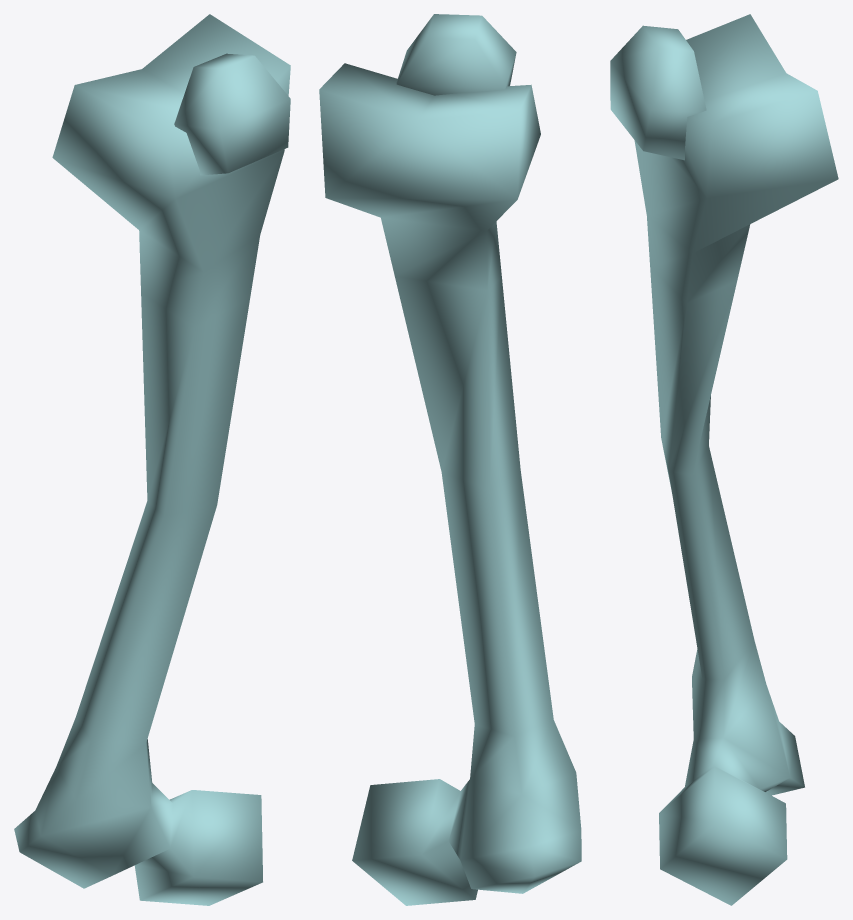
Rendered from Skelly_thigh.L.fbx.
3 views of the same model, side by side, from view 1: azimuth 30°, elevation 25°; view 2: azimuth 150°, elevation 25°; view 3: azimuth 270°, elevation 25° (orthographic).
Parts seen in each view (by area): view 1: Skelly_thigh.L; view 2: Skelly_thigh.L; view 3: Skelly_thigh.L.
Boxes of the visible parts, bbox=[...] form: Skelly_thigh.L: bbox=[14, 14, 290, 905]; Skelly_thigh.L: bbox=[319, 14, 581, 905]; Skelly_thigh.L: bbox=[610, 14, 838, 905].
Bounding box in the file's own units: 15.33 × 50.26 × 12.03.
